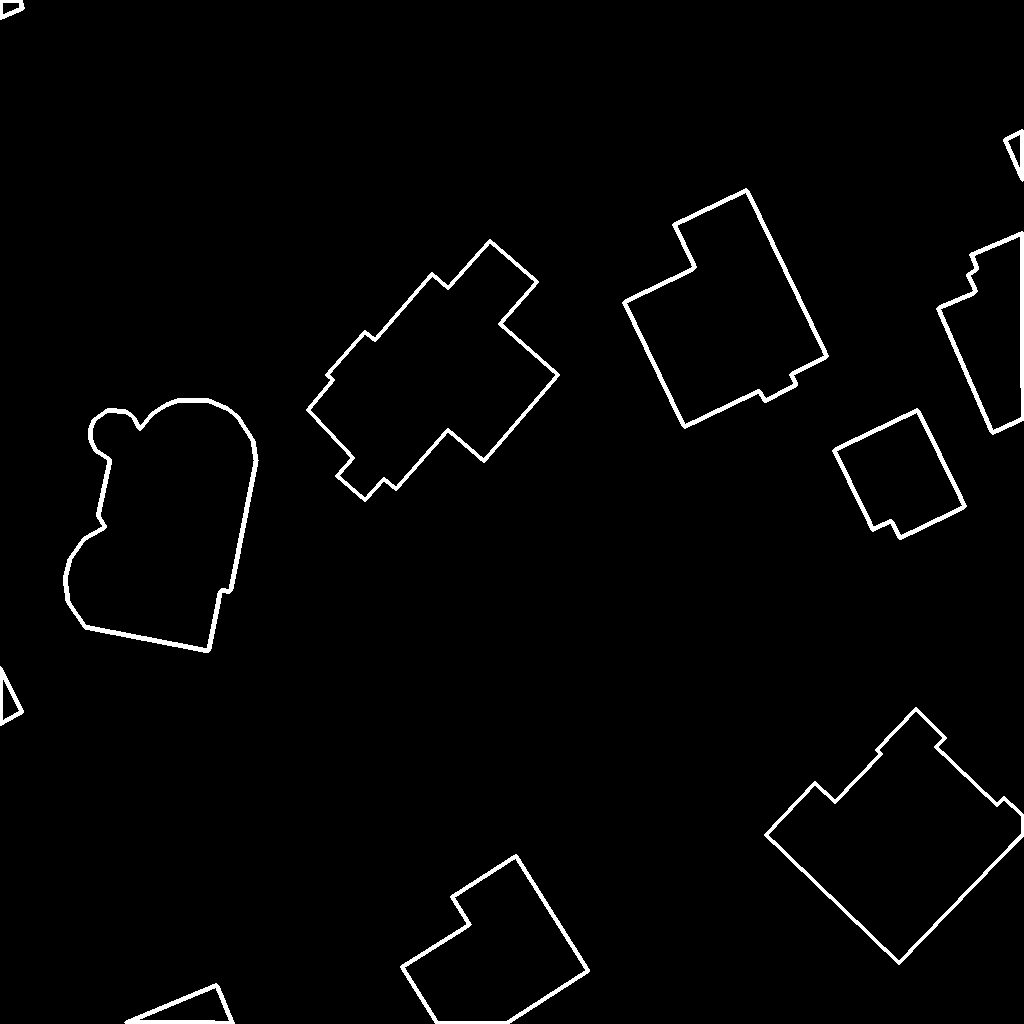building: (766, 709, 1024, 964), (308, 241, 559, 501), (65, 399, 257, 652), (624, 190, 828, 428), (402, 856, 589, 1024), (938, 131, 1024, 434), (834, 410, 966, 539), (125, 985, 234, 1024), (0, 668, 23, 725), (0, 0, 24, 19)
